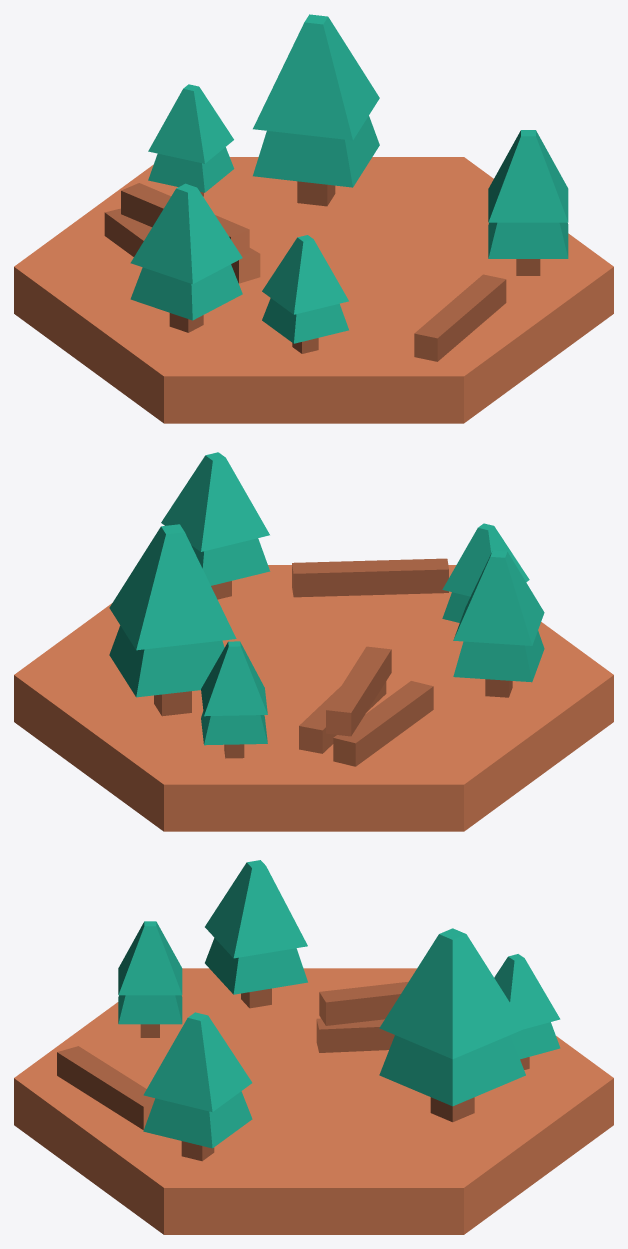
File: dirt_lumber.dae
The picture shows the model from 3 angles, top to bottom: view 1: azimuth 30°, elevation 25°; view 2: azimuth 150°, elevation 25°; view 3: azimuth 270°, elevation 25°; orthographic projection.
Parts seen in each view (by area): view 1: dirt_lumber, tree (×5), OuterShell, log; view 2: dirt_lumber, tree (×5), OuterShell, log; view 3: dirt_lumber, tree (×5), OuterShell, log.
Boxes of the visible parts, x1,y1,x2,y2 form: dirt_lumber: [14, 157, 613, 423]; tree (×5): [130, 14, 568, 353]; OuterShell: [104, 183, 260, 283]; log: [414, 274, 506, 361]; dirt_lumber: [14, 565, 613, 831]; tree (×5): [109, 452, 544, 758]; OuterShell: [299, 646, 433, 766]; log: [292, 558, 448, 597]; dirt_lumber: [14, 968, 613, 1234]; tree (×5): [118, 860, 560, 1161]; OuterShell: [316, 981, 408, 1052]; log: [57, 1046, 154, 1129].
Bounding box in the file's own units: 1 × 0.48 × 1.15.
